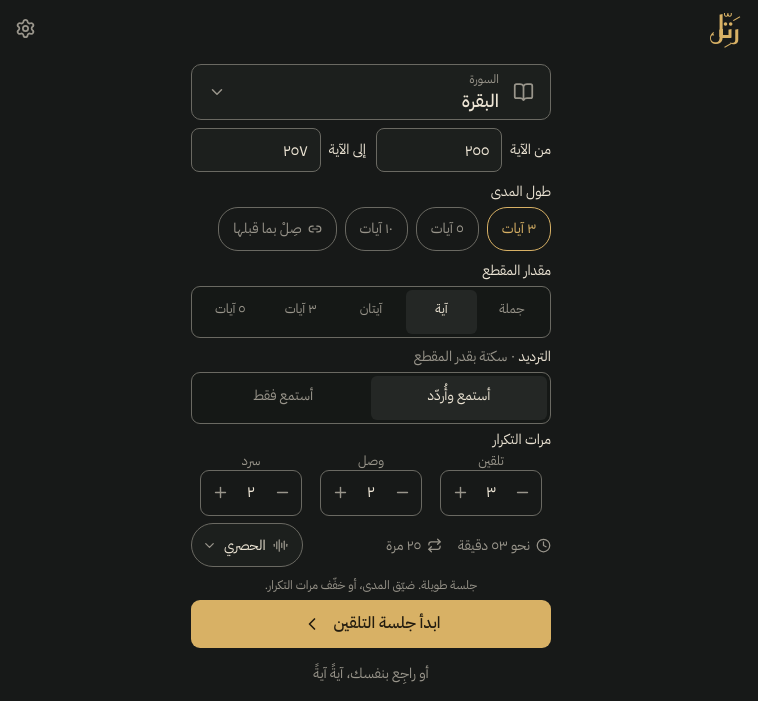
settings and surah picker › keeps the place when the surah already chosen is chosen again
Click the dropdown labelled "السورة" at (375, 92), box [200,65,550,119]
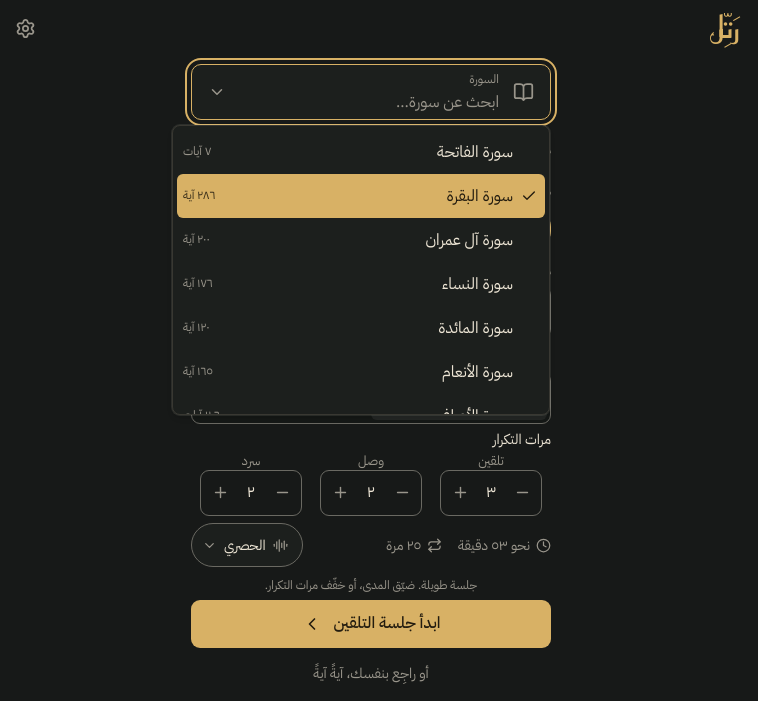
Press Enter
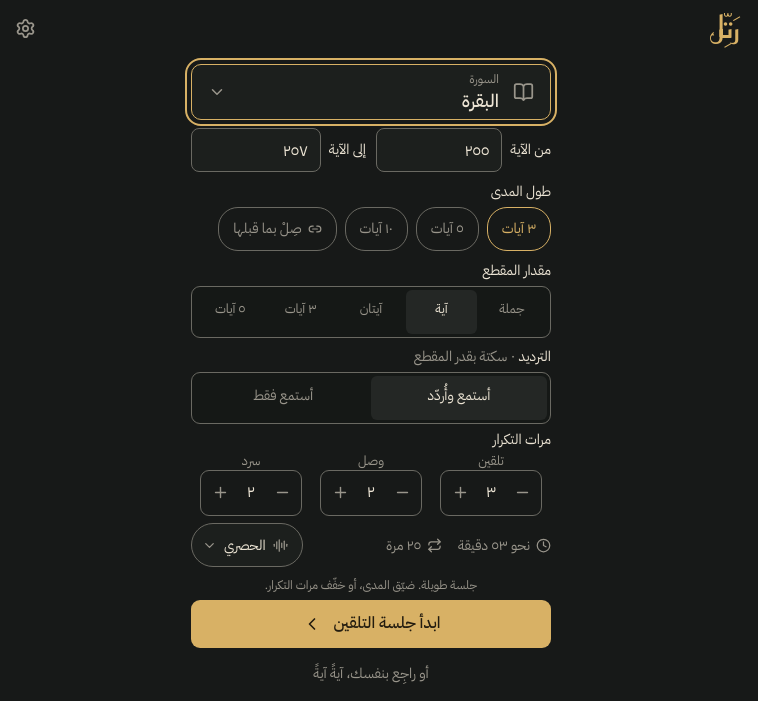
Click the dropdown labelled "السورة" at (375, 92), box [200,65,550,119]
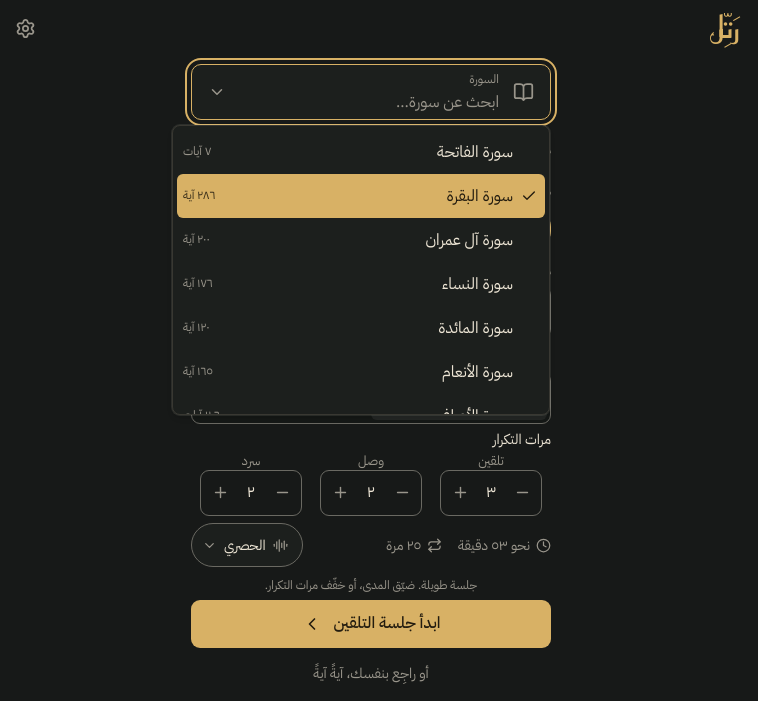
Click the option "سورة البقرة ٢٨٦ آية" at (496, 196), box [177,174,545,218]
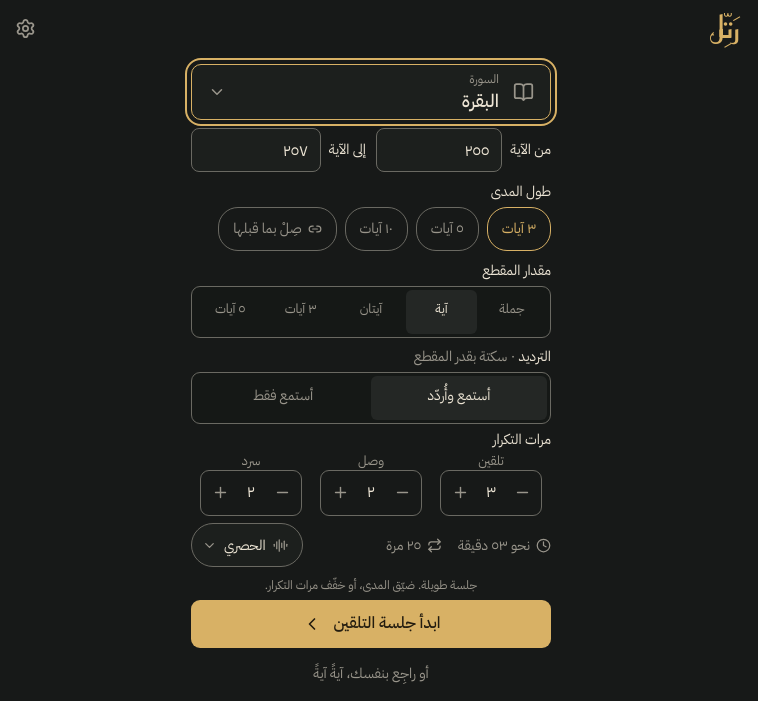
Now the dropdown labelled "السورة" holds "البقرة", box [200,65,550,119]
